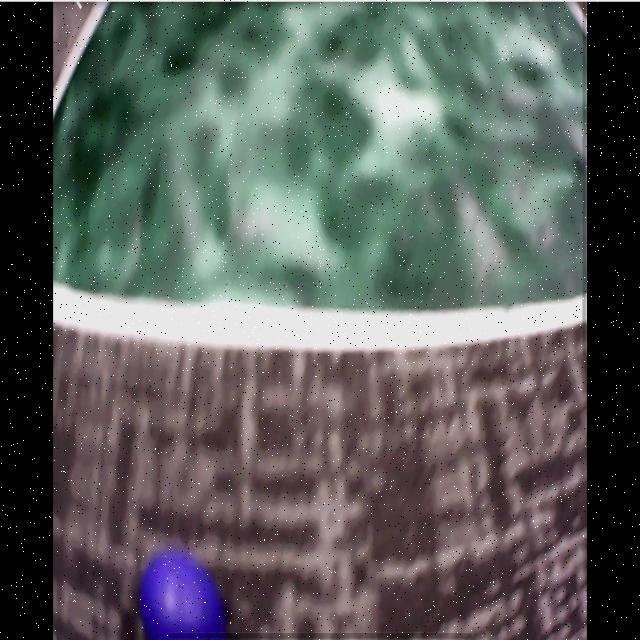ball: (138, 554, 224, 640)
